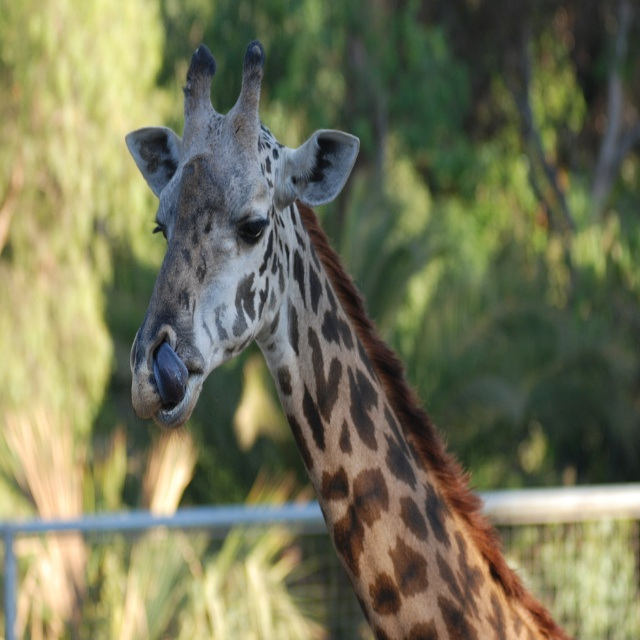Giraffe: (122, 34, 581, 639)
